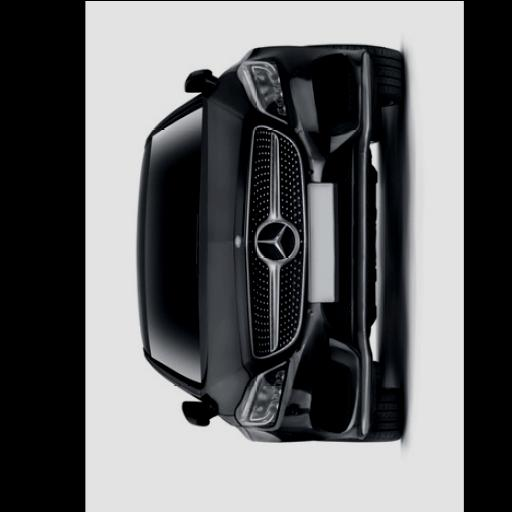sedan: (138, 43, 400, 438)
